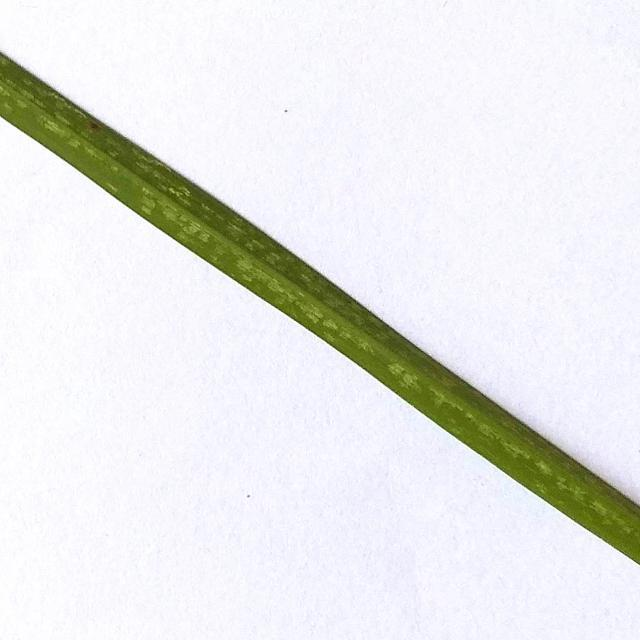brownspots: (87, 119, 105, 135)
